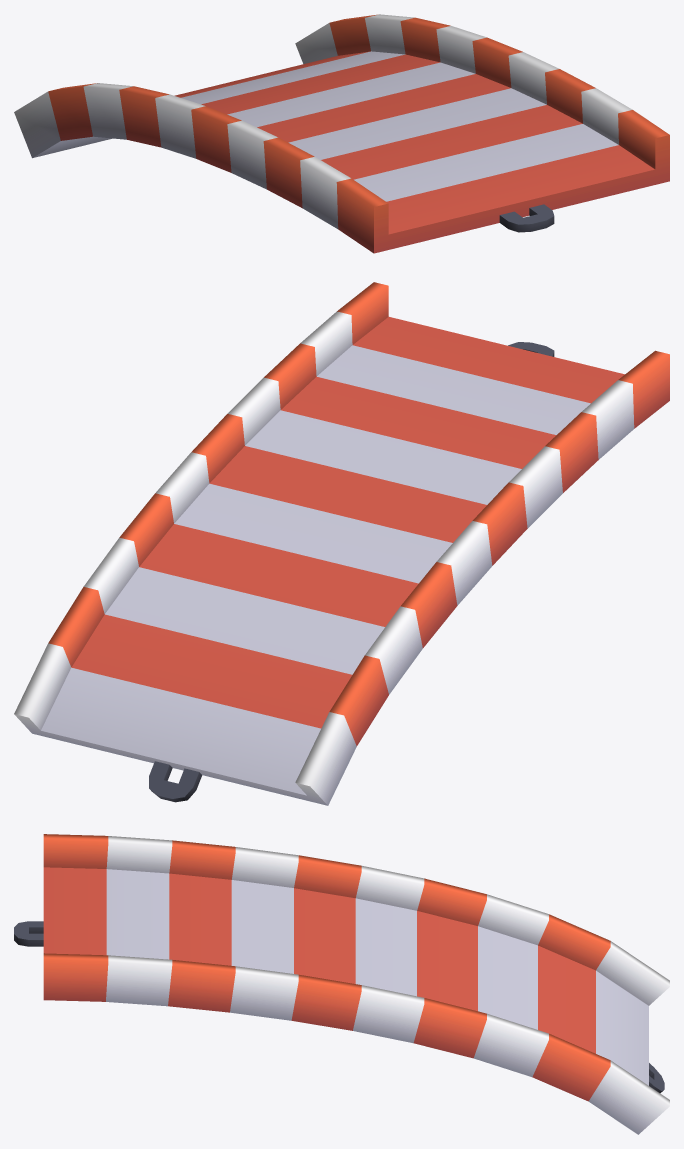
File: kenney-toy-car-track-striped-wide-straight-hill-end.glb
3 views of the same model, one above another, from view 1: azimuth 30°, elevation 25°; view 2: azimuth 150°, elevation 25°; view 3: azimuth 270°, elevation 25° (orthographic). The views are drawn at different scales.
Visible parts, largest first — view 1: track-striped-wide-straight-hill-end; view 2: track-striped-wide-straight-hill-end; view 3: track-striped-wide-straight-hill-end.
Part boxes in pixels (x1=…): track-striped-wide-straight-hill-end: x1=14, y1=14, x2=669, y2=253; track-striped-wide-straight-hill-end: x1=14, y1=282, x2=669, y2=805; track-striped-wide-straight-hill-end: x1=14, y1=834, x2=669, y2=1134.
Bounding box in the file's own units: 2 × 1.44 × 4.41.
Materials: 1 (1 with a texture image).
